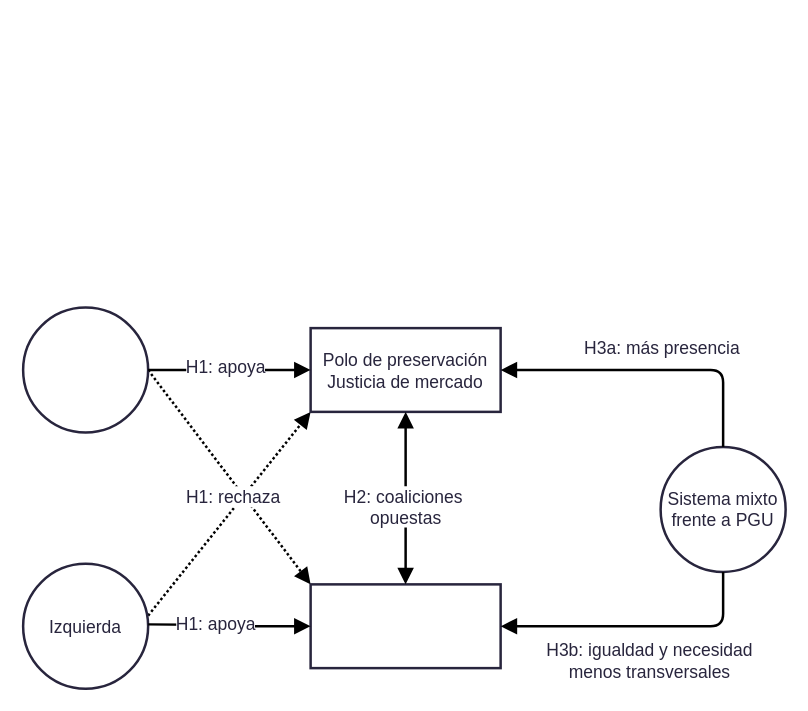
The diagram is 808 pixels wide and 711 high, and some of its shapes have lost their labels. Each missing label, with the centre of its shape:
"Derecha" goes at (x=85, y=369).
"Polo de transformación Justicia política" goes at (x=405, y=625).
